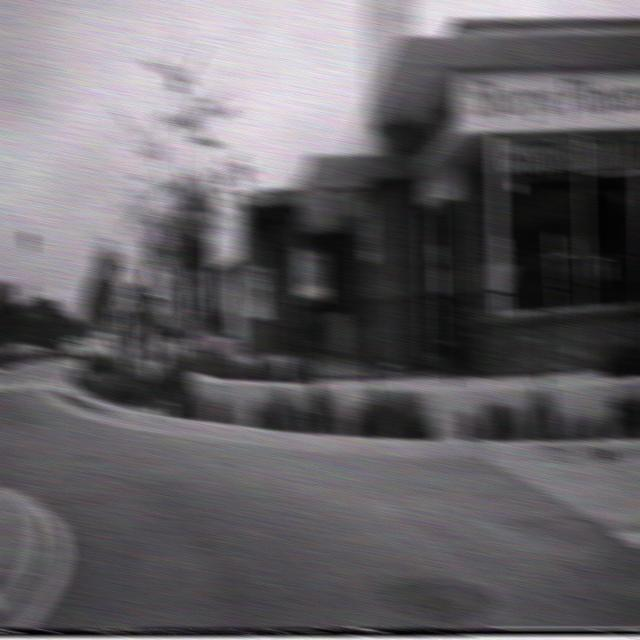pedestrianCrossing: (110, 251, 138, 298)
